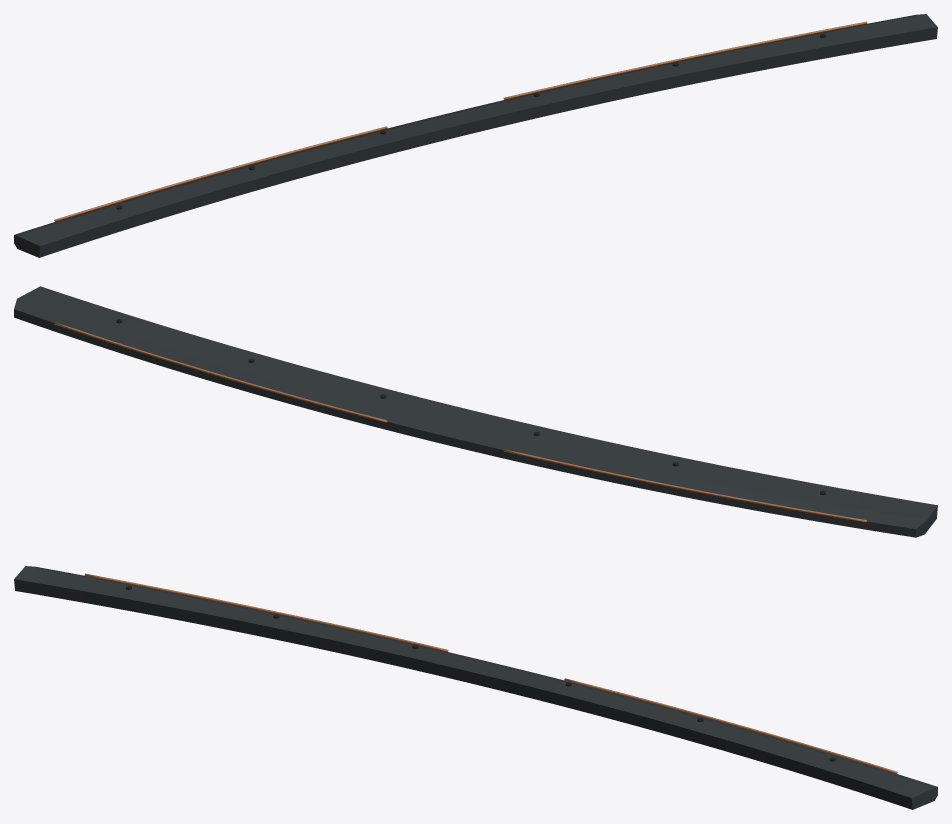
The model's file is body-splitter.glb.
3 renders of one model, top to bottom at view 1: azimuth 30°, elevation 25°; view 2: azimuth 150°, elevation 25°; view 3: azimuth 330°, elevation 25°, orthographic.
Parts seen in each view (by area): view 1: body_splitter_Roadster_Cosmetic_Graphite_Ceramic, body_splitter_Roadster_Cosmetic_Copper_Anodized; view 2: body_splitter_Roadster_Cosmetic_Graphite_Ceramic, body_splitter_Roadster_Cosmetic_Copper_Anodized; view 3: body_splitter_Roadster_Cosmetic_Graphite_Ceramic, body_splitter_Roadster_Cosmetic_Copper_Anodized.
Boxes of the visible parts, <box> form: body_splitter_Roadster_Cosmetic_Graphite_Ceramic: <box>14,14,937,257</box>; body_splitter_Roadster_Cosmetic_Copper_Anodized: <box>54,21,867,221</box>; body_splitter_Roadster_Cosmetic_Graphite_Ceramic: <box>14,286,937,537</box>; body_splitter_Roadster_Cosmetic_Copper_Anodized: <box>54,322,867,522</box>; body_splitter_Roadster_Cosmetic_Graphite_Ceramic: <box>14,566,937,809</box>; body_splitter_Roadster_Cosmetic_Copper_Anodized: <box>84,573,897,773</box>.
Bounding box in the file's own units: 1.81 × 0.039 × 0.1517.
